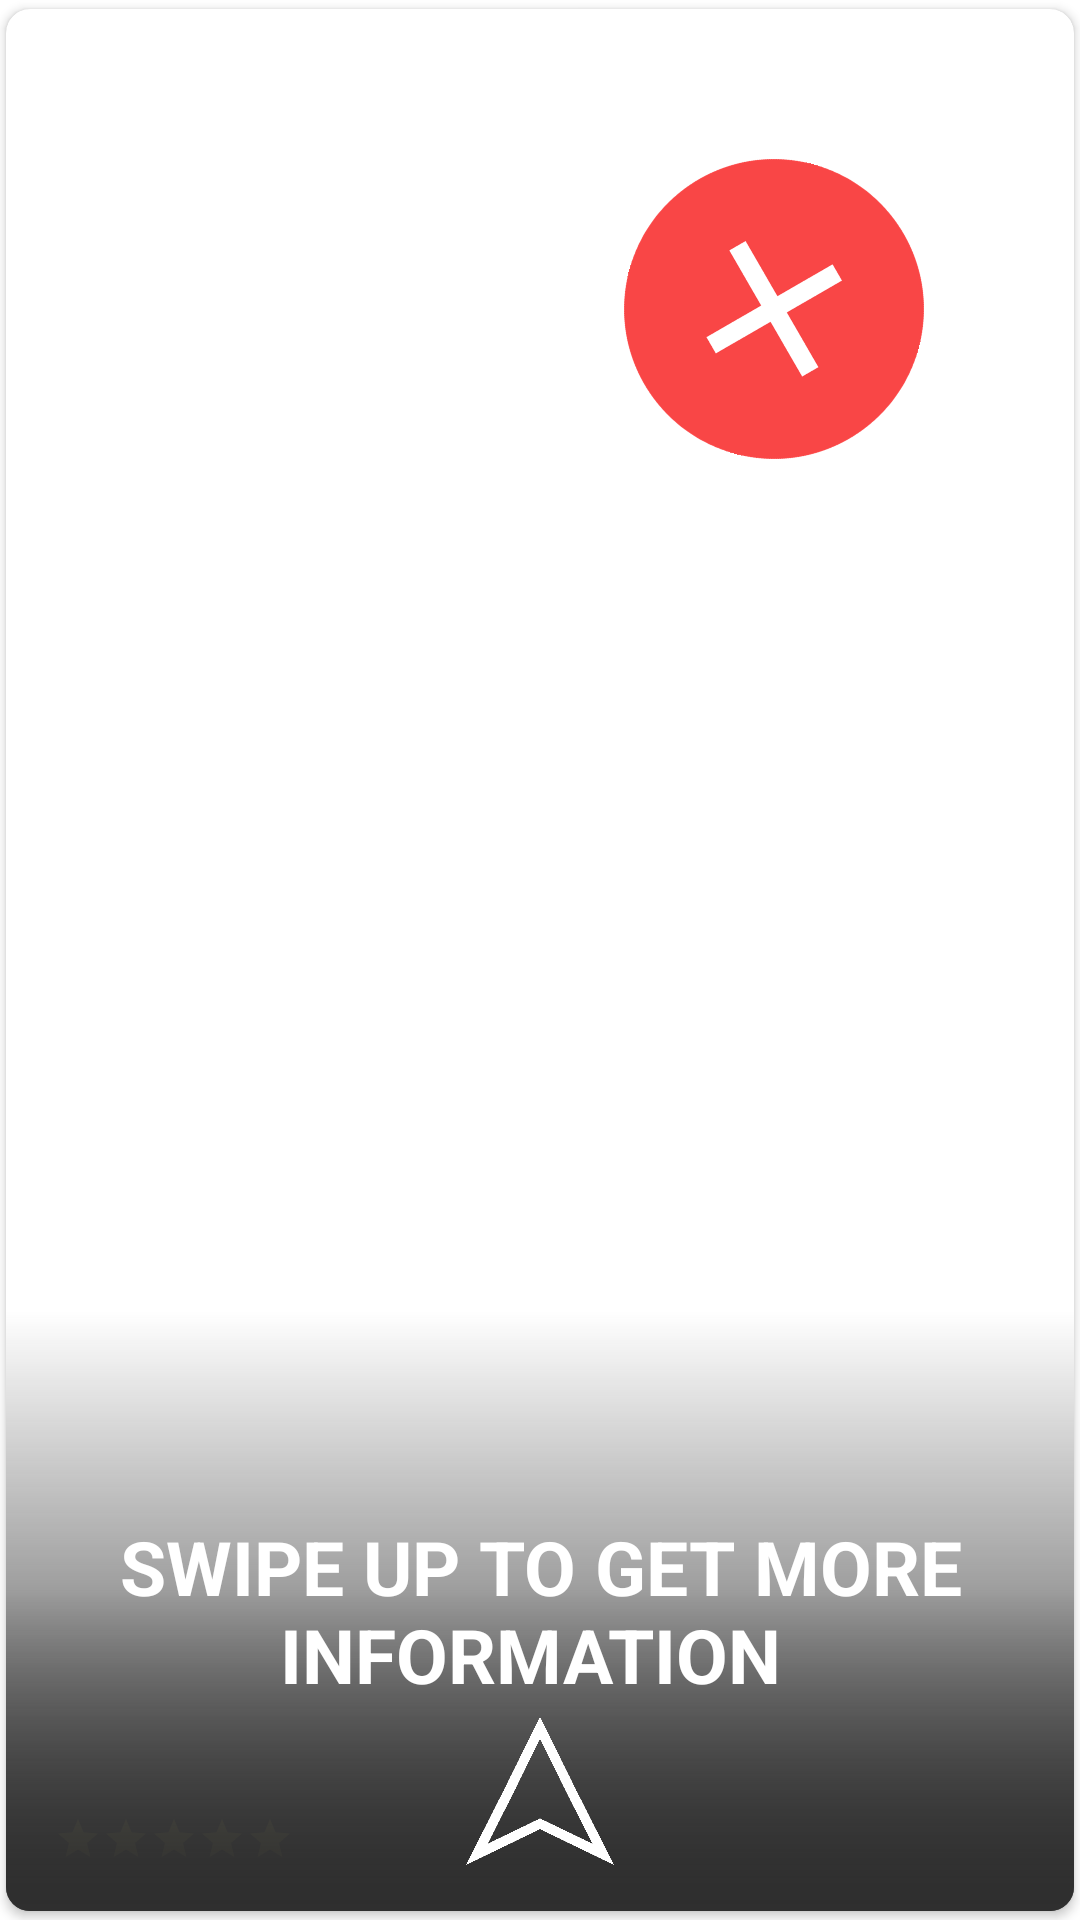

Screen size 1080px×1920px. Icon name, then its box in pixels as (x1, y1, x2, y2):
arrow up: (465, 1716, 615, 1865)
